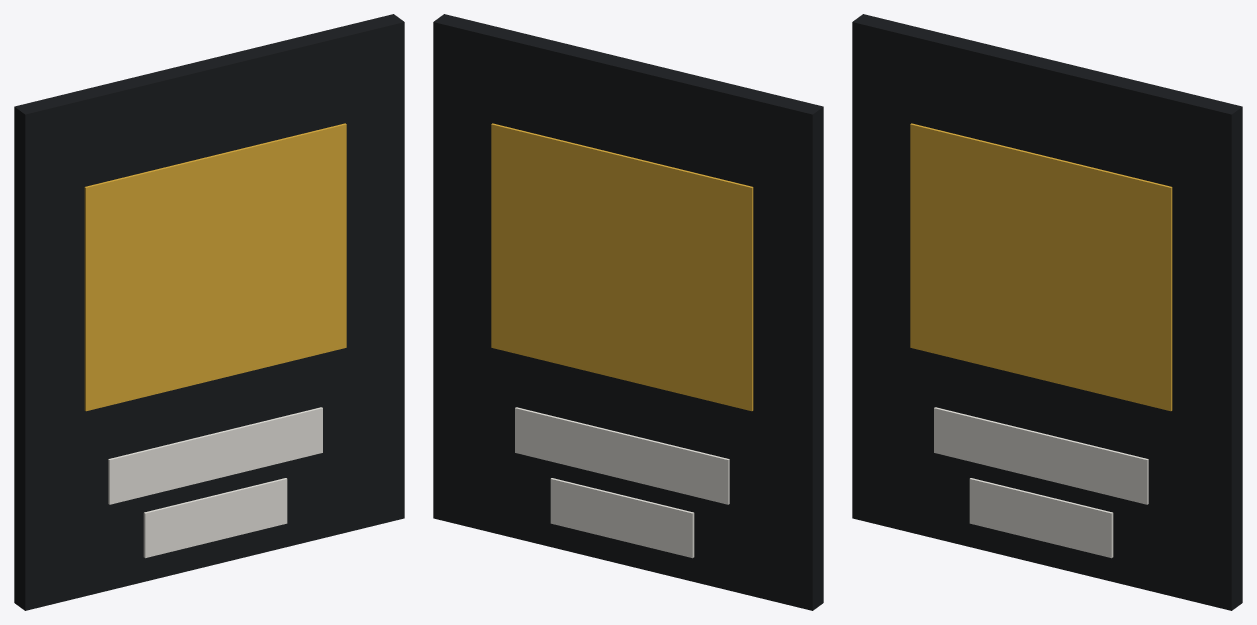
The model's file is Poster_Black.fbx.
3 views of the same model, side by side, from view 1: azimuth 30°, elevation 25°; view 2: azimuth 150°, elevation 25°; view 3: azimuth 330°, elevation 25° (orthographic).
Visible parts, largest first — view 1: Poster_Black_Mesh; view 2: Poster_Black_Mesh; view 3: Poster_Black_Mesh.
Part boxes in pixels (left/top/right/bottom): Poster_Black_Mesh: left=14, top=14, right=404, bottom=610; Poster_Black_Mesh: left=433, top=14, right=823, bottom=610; Poster_Black_Mesh: left=852, top=14, right=1242, bottom=610.
Bounding box in the file's own units: 1.6 × 2 × 0.1.
Materials: 1 (1 with a texture image).
